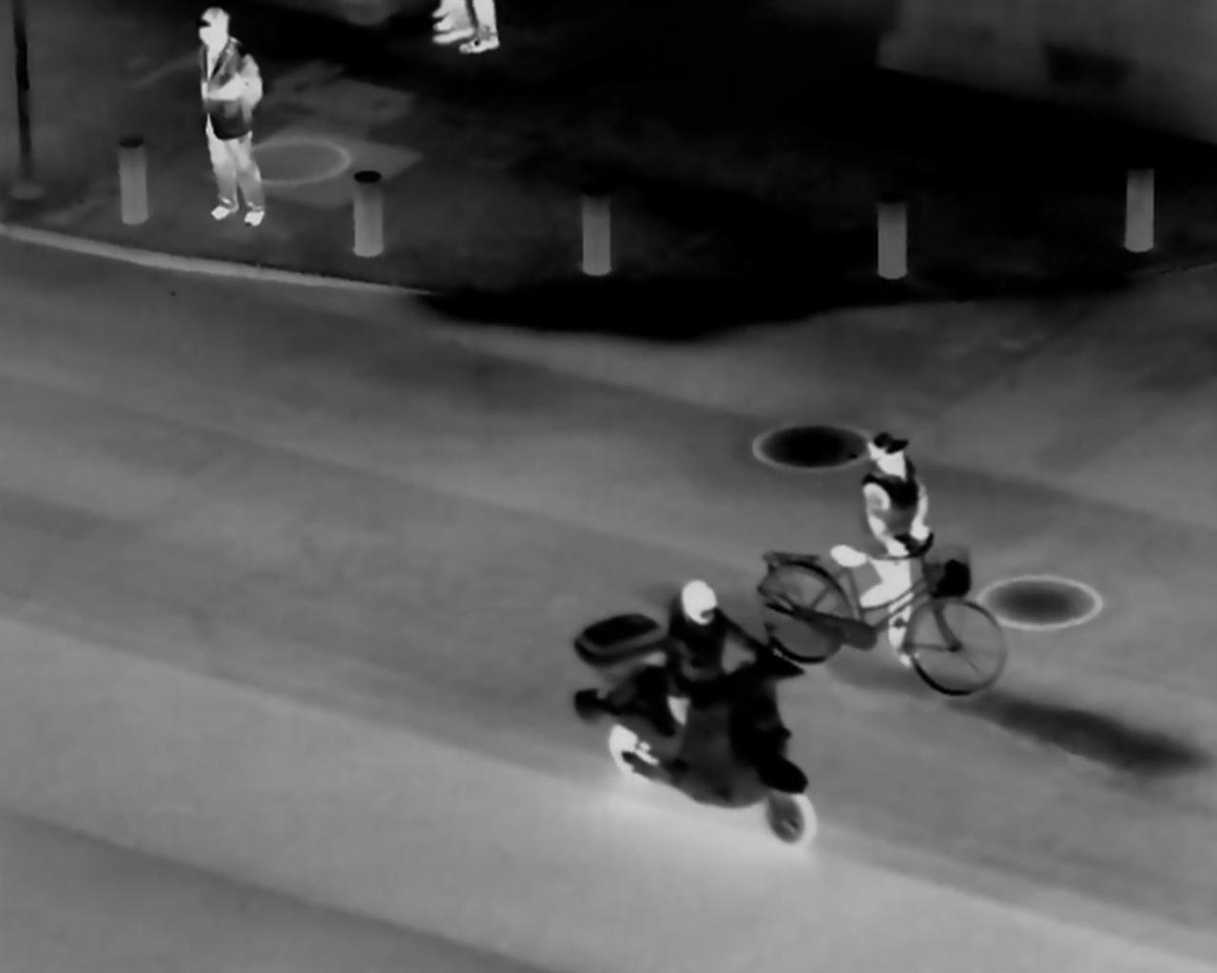person: (847, 431, 948, 676), (179, 6, 280, 234), (638, 574, 750, 756)
